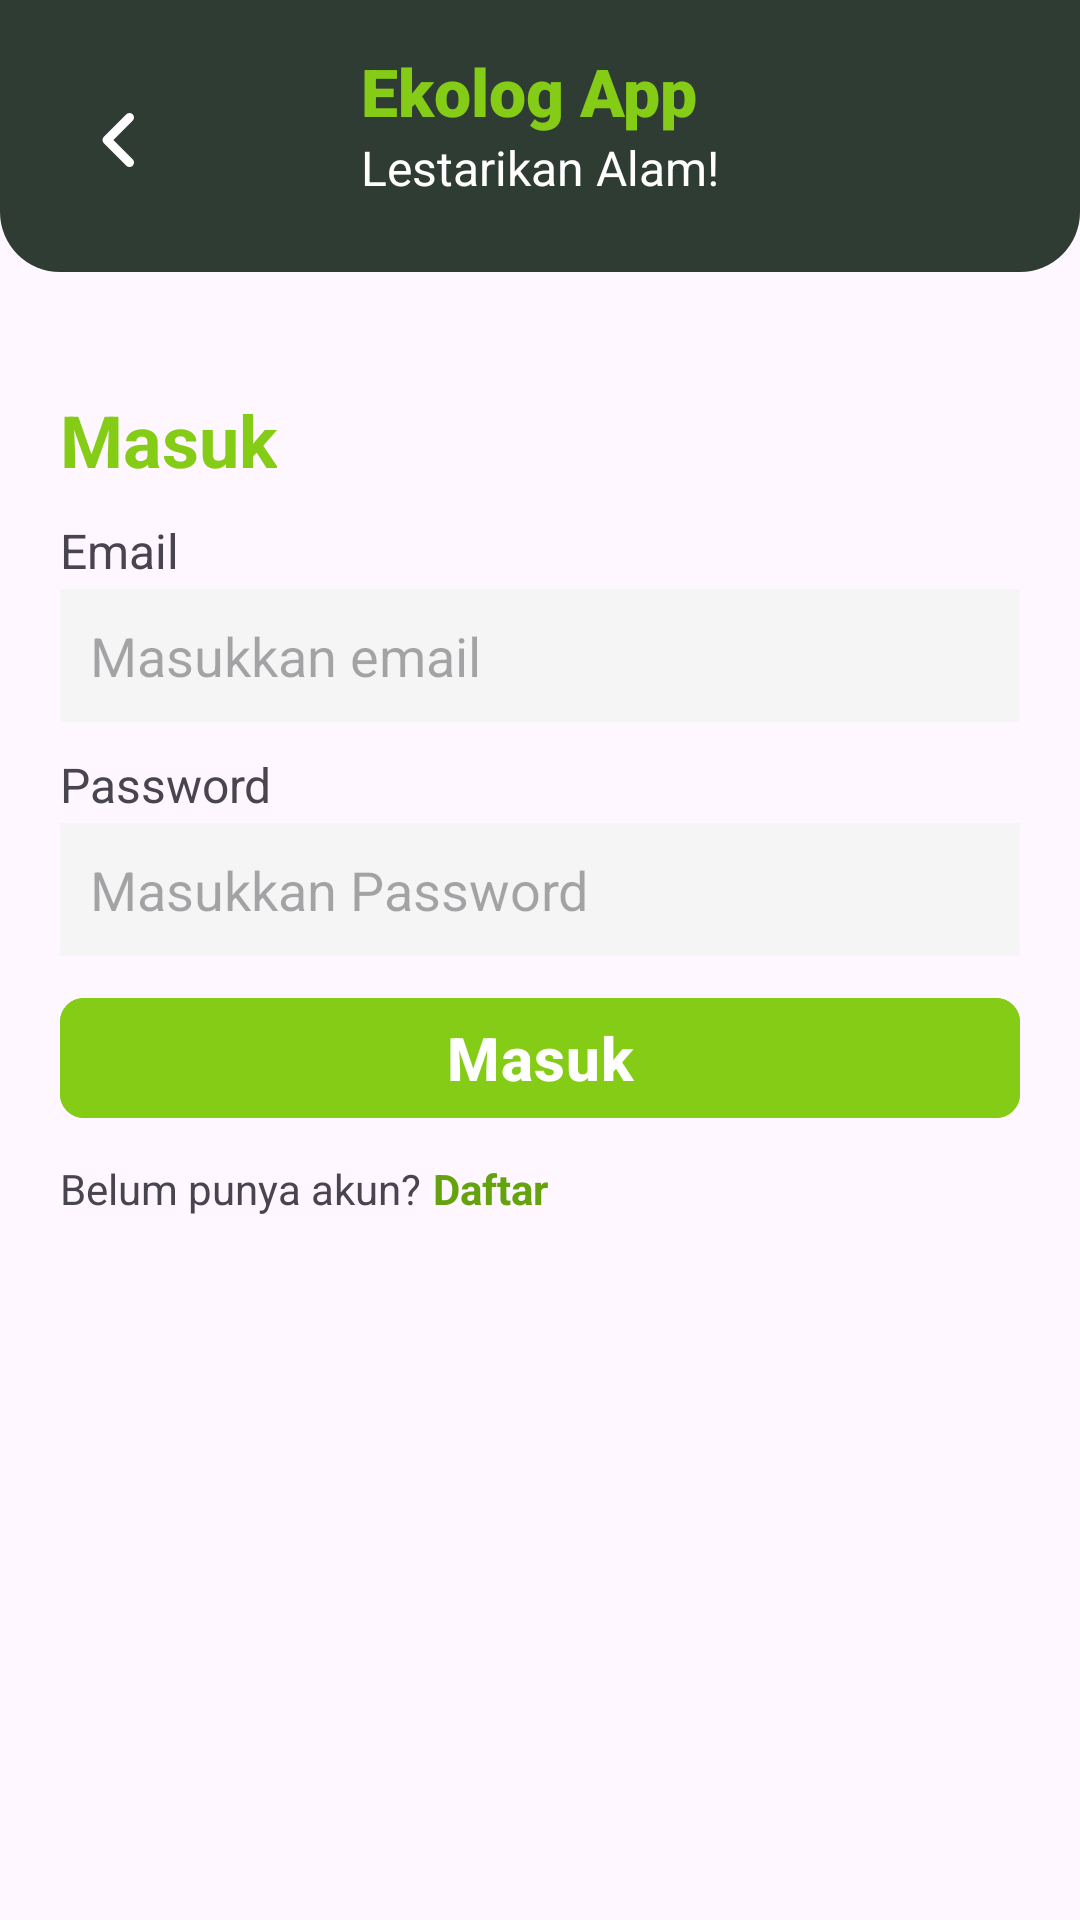

Where icons sit on this 1080 x 1920 app screen, as {"x1": x1, "y1": y1, "x2": x2, "y2": y2}:
left: {"x1": 102, "y1": 113, "x2": 134, "y2": 167}
